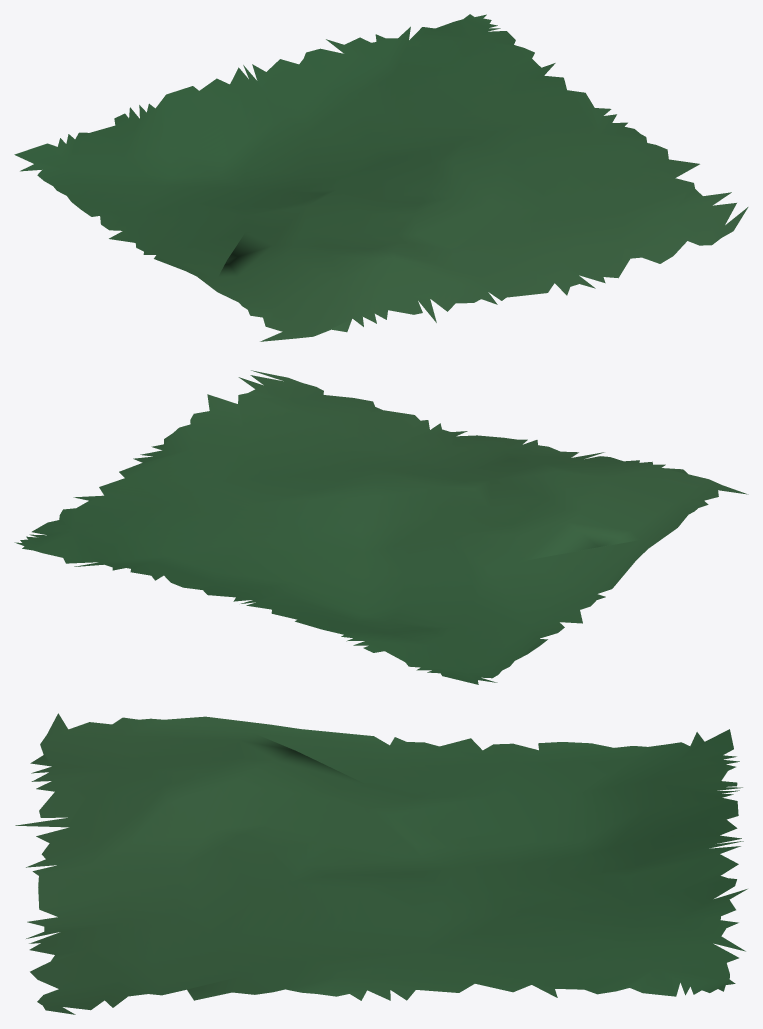
The model's file is payo_land_x1_y7_lod2.glb.
The picture shows the model from 3 angles, top to bottom: view 1: azimuth 30°, elevation 25°; view 2: azimuth 150°, elevation 25°; view 3: azimuth 270°, elevation 25°; orthographic projection. The views are drawn at different scales.
Parts seen in each view (by area): view 1: payo_land_x1_y7; view 2: payo_land_x1_y7; view 3: payo_land_x1_y7.
Part boxes in pixels (left/top/right/bottom): payo_land_x1_y7: left=14, top=14, right=748, bottom=341; payo_land_x1_y7: left=14, top=370, right=748, bottom=684; payo_land_x1_y7: left=15, top=713, right=747, bottom=1014.
Size of the model in its own units: 276 by 25.06 by 273.
